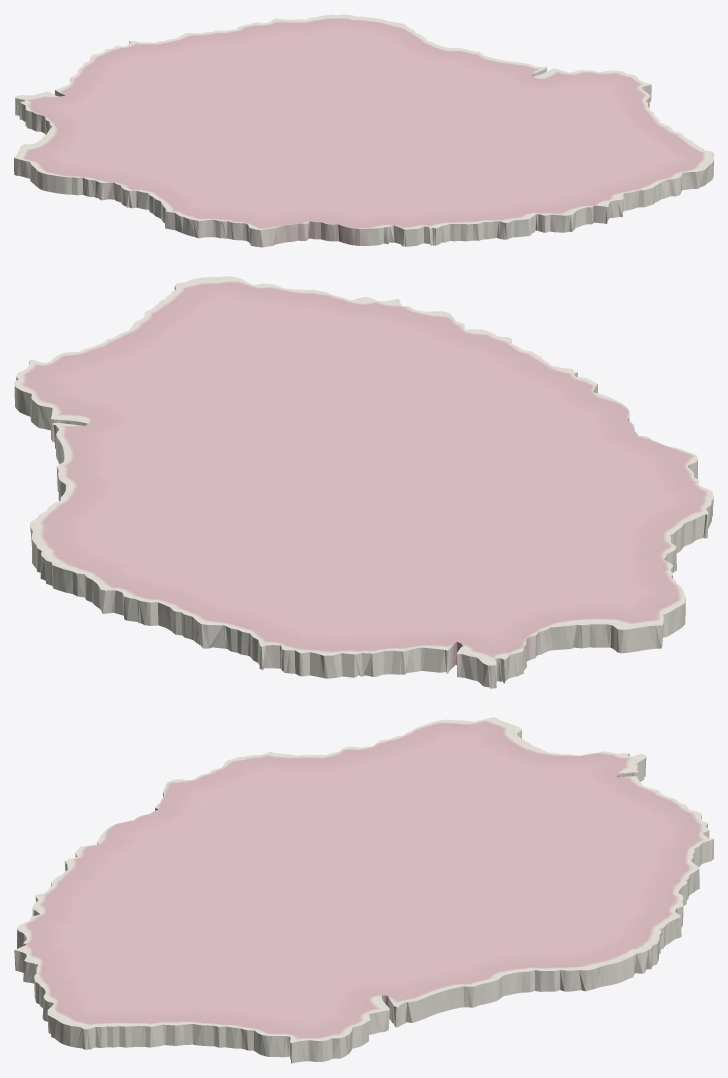
The model's file is la-reunion.glb.
3 views of the same model, one above another, from view 1: azimuth 30°, elevation 25°; view 2: azimuth 150°, elevation 25°; view 3: azimuth 270°, elevation 25° (orthographic). The views are drawn at different scales.
Visible parts, largest first — view 1: tripo_node_d9d4609b-9cb9-41a5-b13c-8b20e6b5ecaa; view 2: tripo_node_d9d4609b-9cb9-41a5-b13c-8b20e6b5ecaa; view 3: tripo_node_d9d4609b-9cb9-41a5-b13c-8b20e6b5ecaa.
Boxes of the visible parts, x1=… form: tripo_node_d9d4609b-9cb9-41a5-b13c-8b20e6b5ecaa: x1=14, y1=14, x2=713, y2=247; tripo_node_d9d4609b-9cb9-41a5-b13c-8b20e6b5ecaa: x1=14, y1=276, x2=713, y2=688; tripo_node_d9d4609b-9cb9-41a5-b13c-8b20e6b5ecaa: x1=14, y1=717, x2=713, y2=1063.
Bounding box in the file's own units: 1 × 0.03 × 0.907.
Materials: 1 (1 with a texture image).
